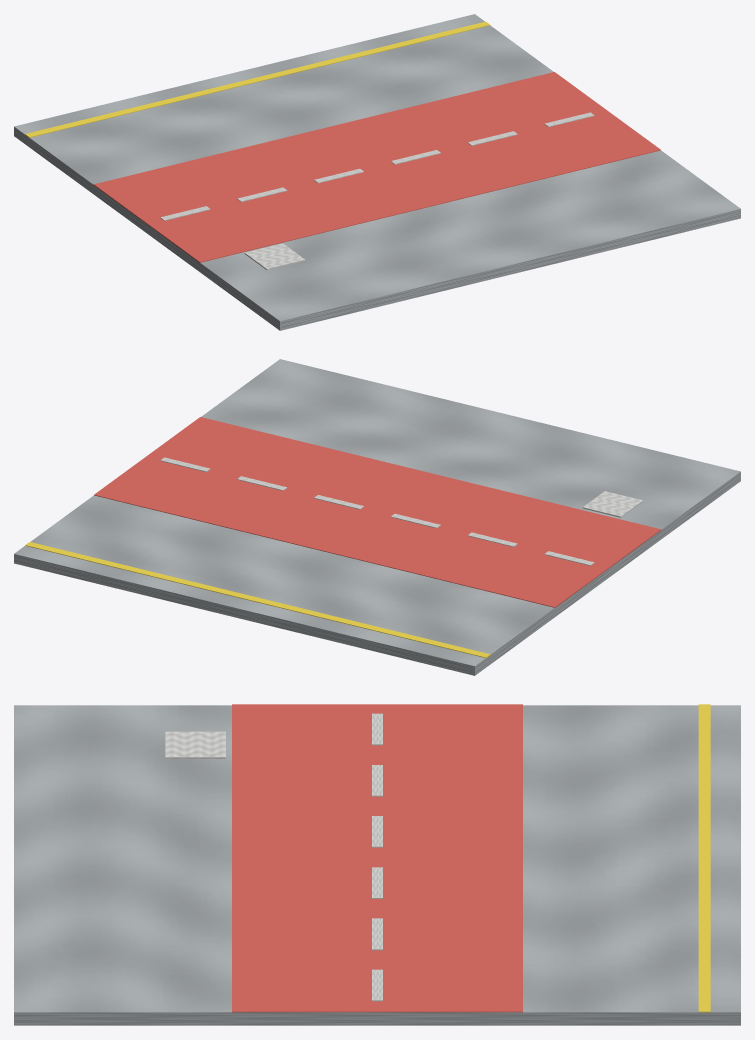
File: cruise-ship-deck-and-lounge-cruise-ship-deck-and-loung-714f2f57__38405.glb
3 renders of one model, top to bottom at view 1: azimuth 30°, elevation 25°; view 2: azimuth 150°, elevation 25°; view 3: azimuth 270°, elevation 25°, orthographic. The views are drawn at different scales.
Visible parts, largest first — view 1: cruise-ship-deck-and-lounge-jogging-track-plate; view 2: cruise-ship-deck-and-lounge-jogging-track-plate; view 3: cruise-ship-deck-and-lounge-jogging-track-plate.
Boxes of the visible parts, x1,y1,x2,y2 form: cruise-ship-deck-and-lounge-jogging-track-plate: (14,14,740,330); cruise-ship-deck-and-lounge-jogging-track-plate: (14,359,740,675); cruise-ship-deck-and-lounge-jogging-track-plate: (14,704,740,1025).
Size of the model in its own units: 6 by 0.1369 by 6.
4 materials, 2 textured.
